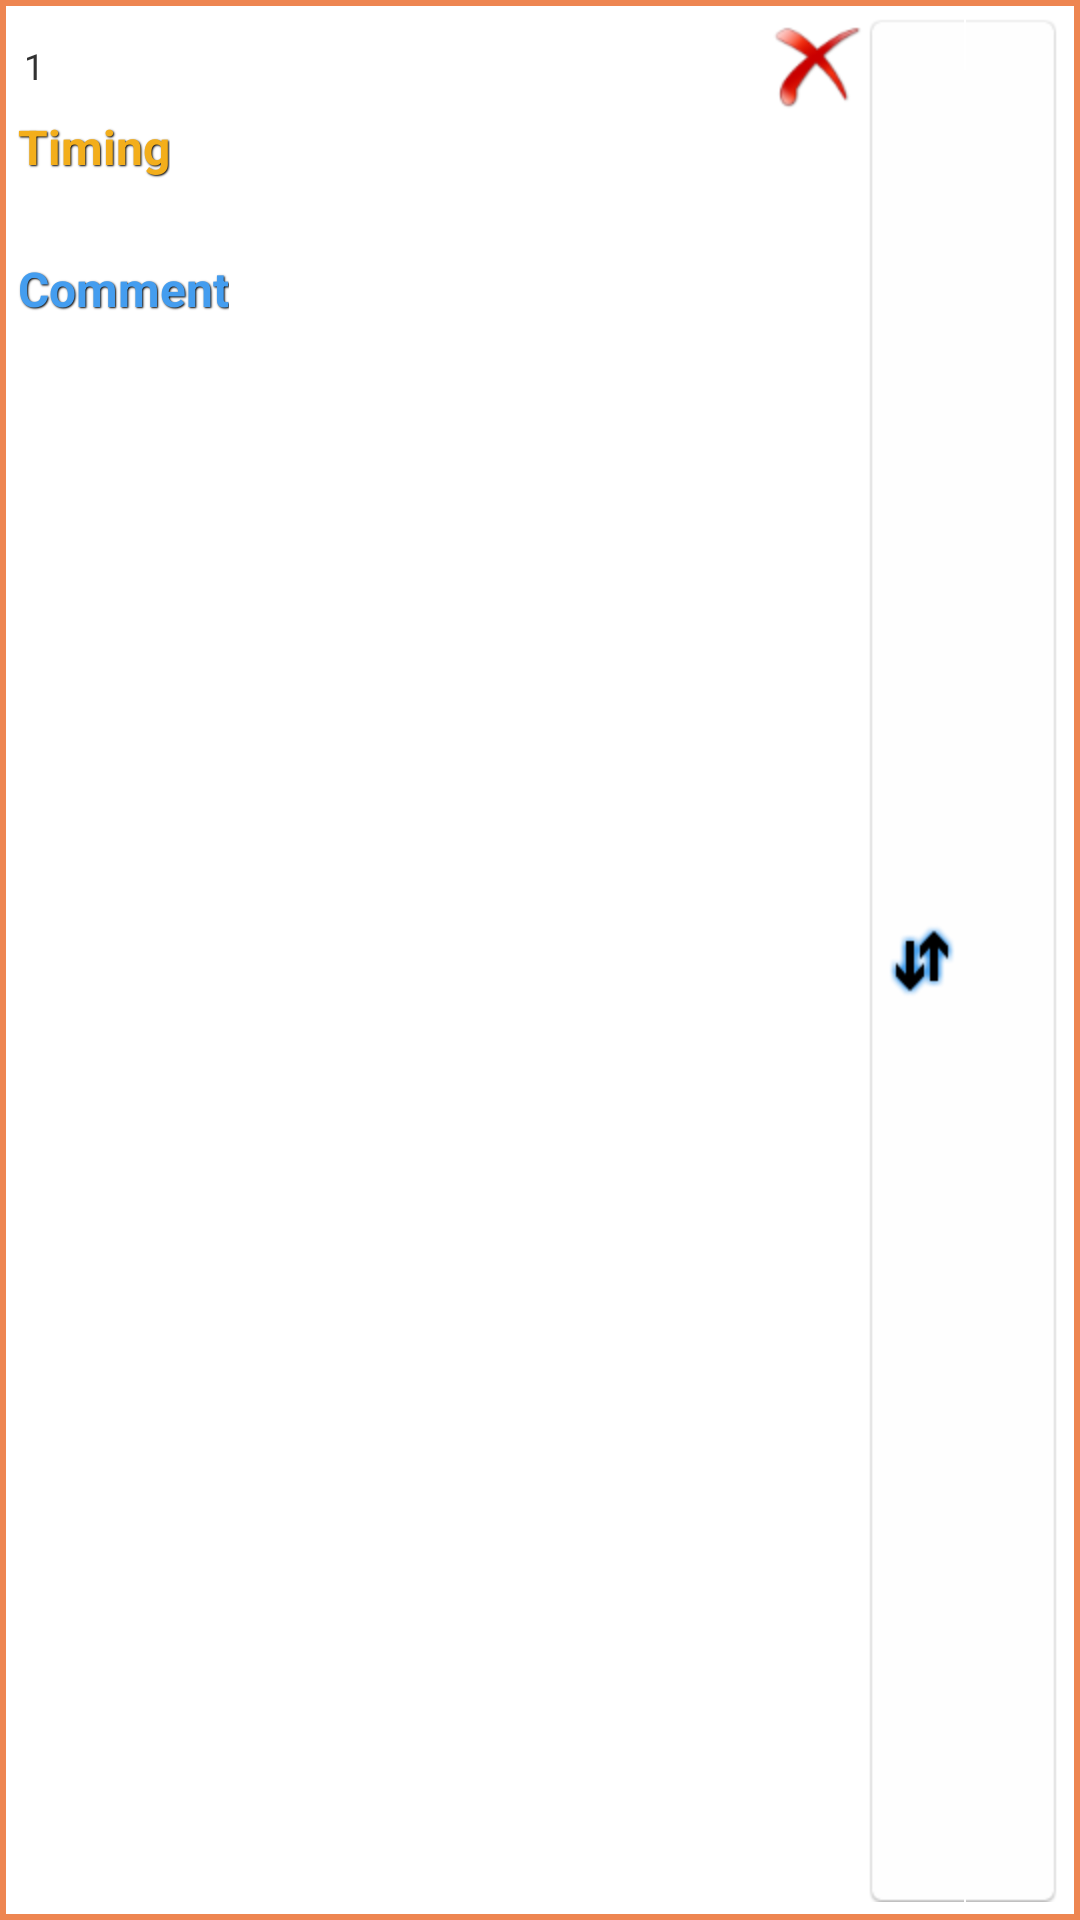

Screen size 1080px×1920px. Icon name, then its box in pixels as (x1, y1, x2, y2):
delete: (775, 27, 860, 107)
